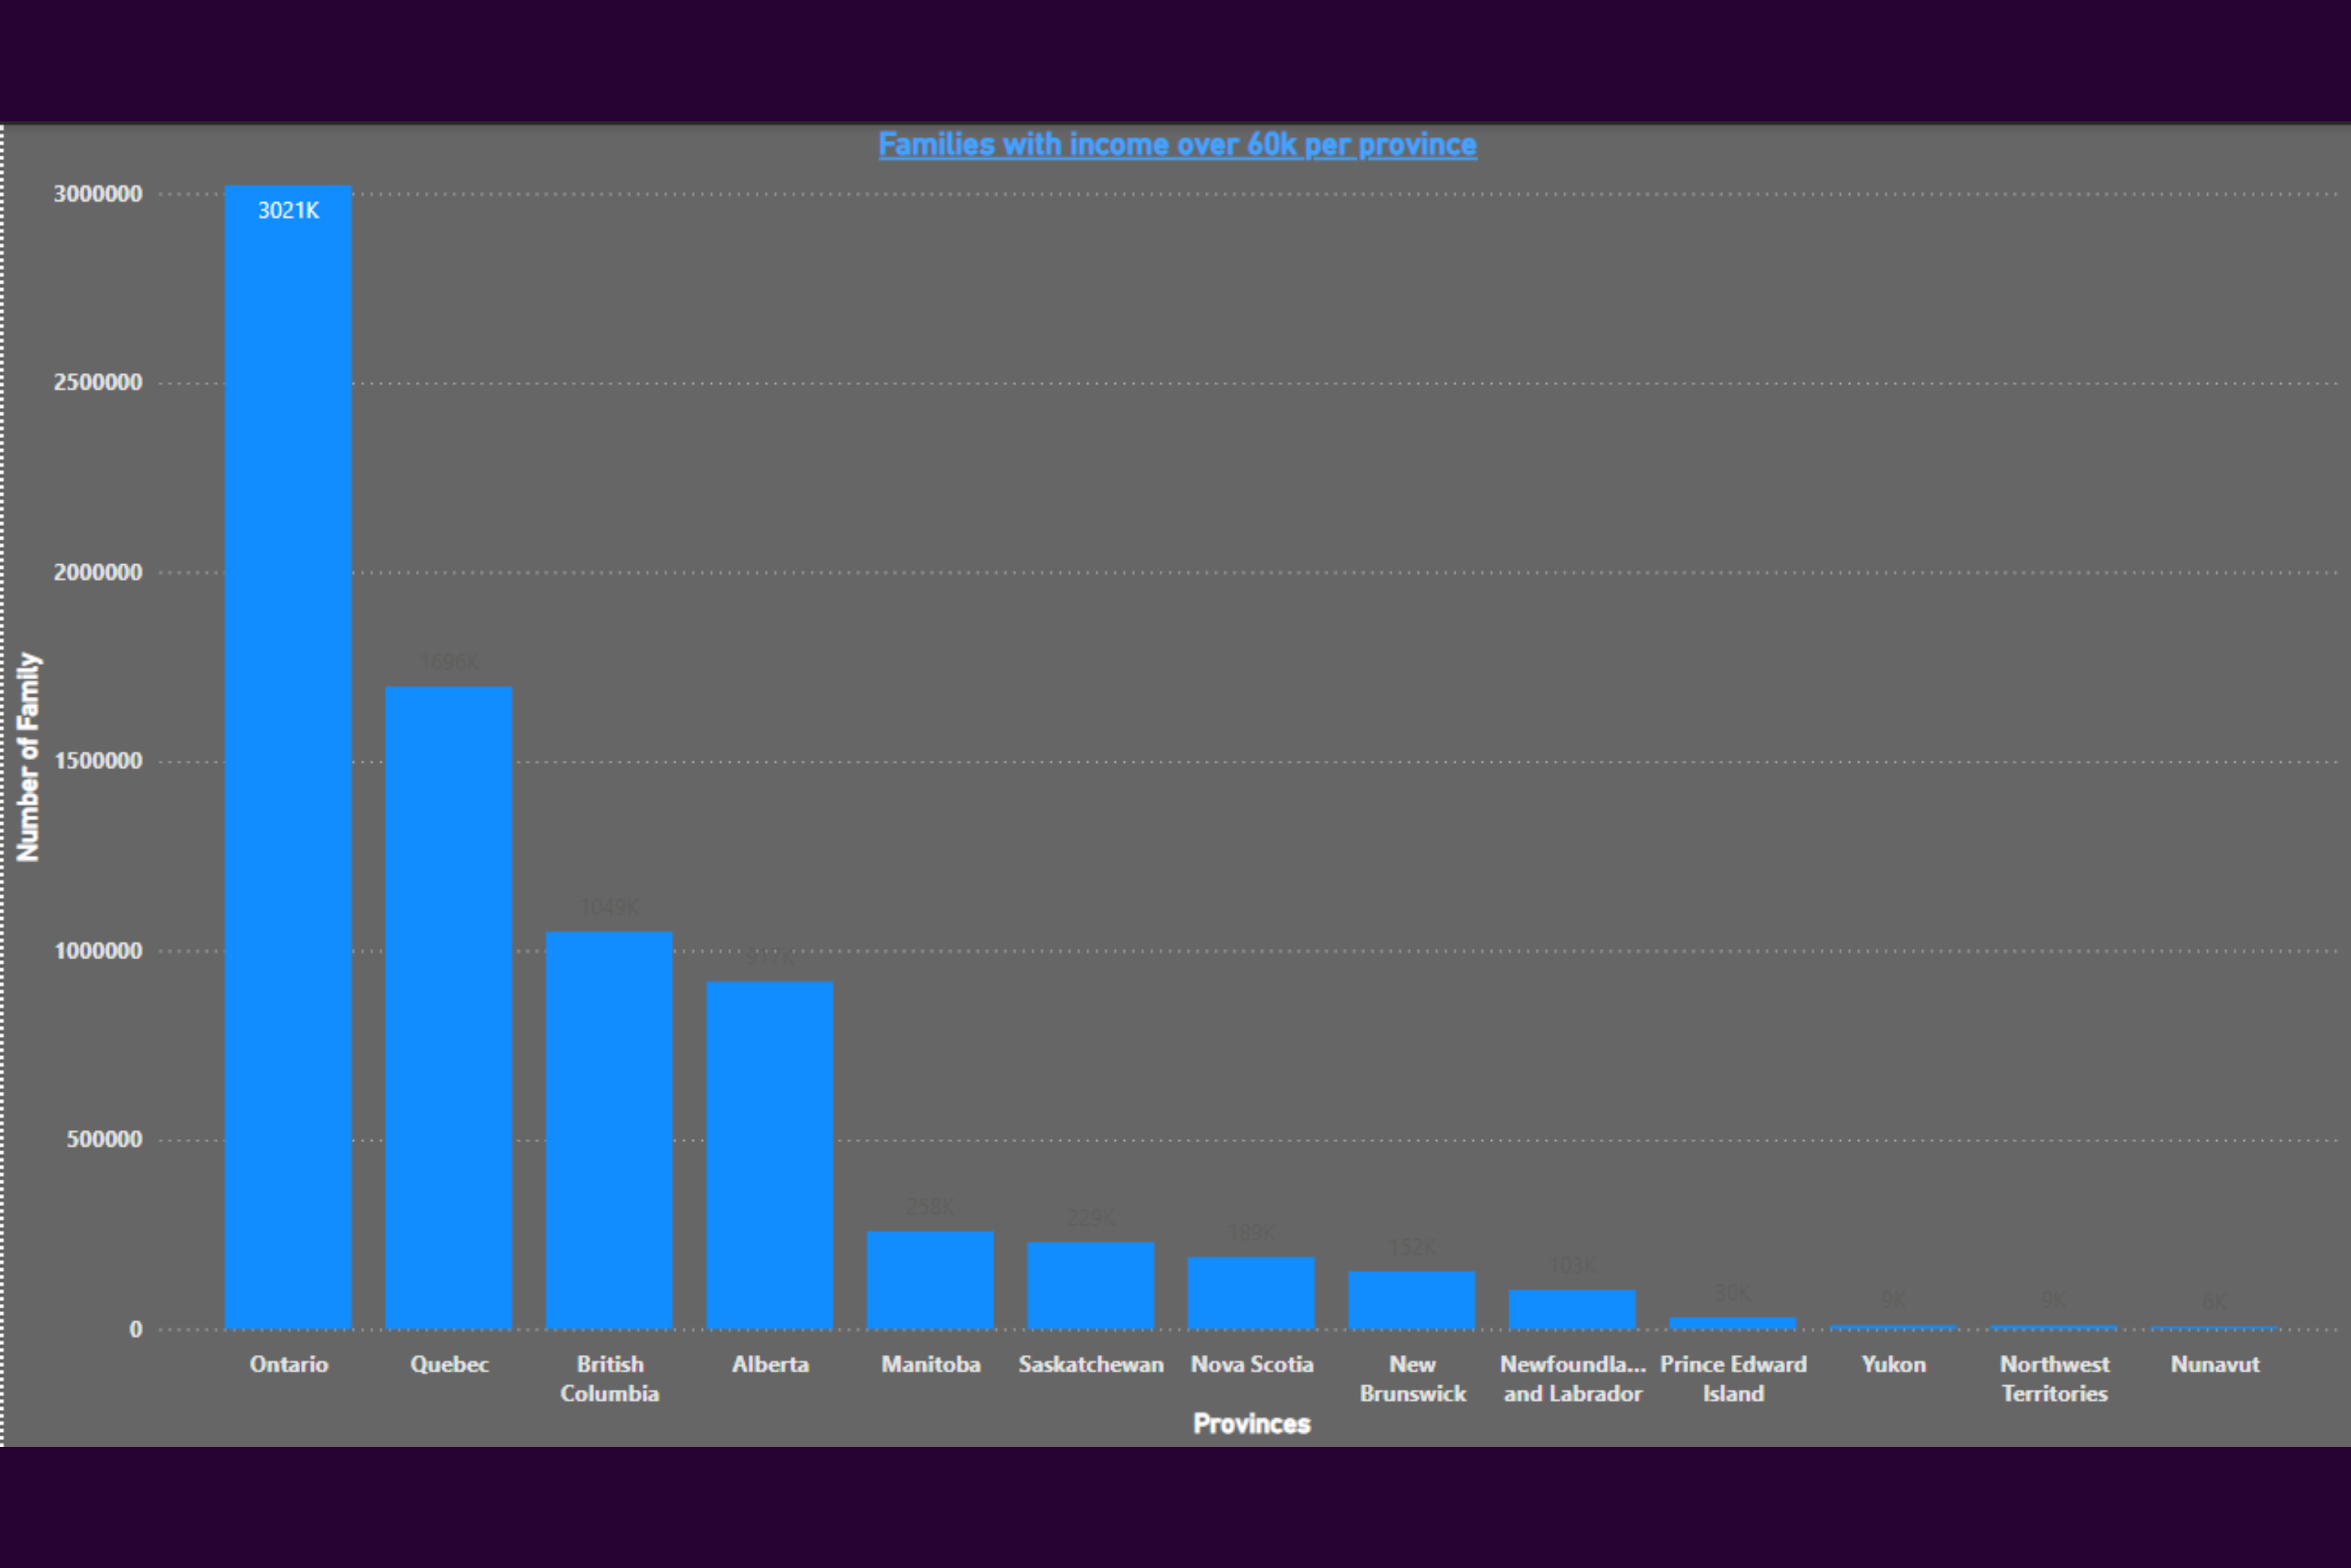

Layout of this report page (visuals, bound fields, positions):
{"tool":"powerbi","page":{"name":"Income Over 60K","canvas":[1280,720],"ordinal":5},"visuals":[{"type":"clusteredColumnChart","title":"Families with income over 60k per province","fields":{"Category":["Income Level.GEO"],"Y":["Sum(Income Level.VALUE)"]},"box":[0,0,1280,720.3],"z":0}]}

Visuals, with their boxes on the page's 1280x720 design canvas (x1, y1, x2, y2). These are canvas units, not pixel positions in the 2351x1568 screenshot, which may show the page scaled, cropped or inside an application window:
"Families with income over 60k per province" clusteredColumnChart: l=0, t=0, r=1280, b=720
